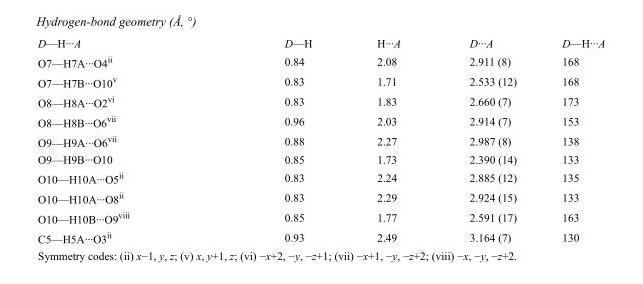table: (37, 36, 604, 244)
table column: (37, 36, 206, 244), (206, 36, 343, 244), (434, 36, 538, 244), (343, 36, 434, 244), (538, 36, 604, 244)
table row: (37, 51, 604, 71), (37, 71, 604, 91), (37, 91, 604, 111), (37, 130, 604, 150), (37, 167, 604, 187), (37, 187, 604, 207), (37, 207, 604, 227), (37, 111, 604, 130), (37, 150, 604, 167), (37, 227, 604, 244), (37, 36, 604, 51)
